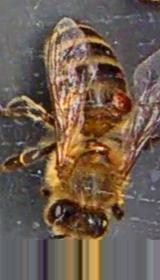varroa_mite: (104, 91, 142, 124)
